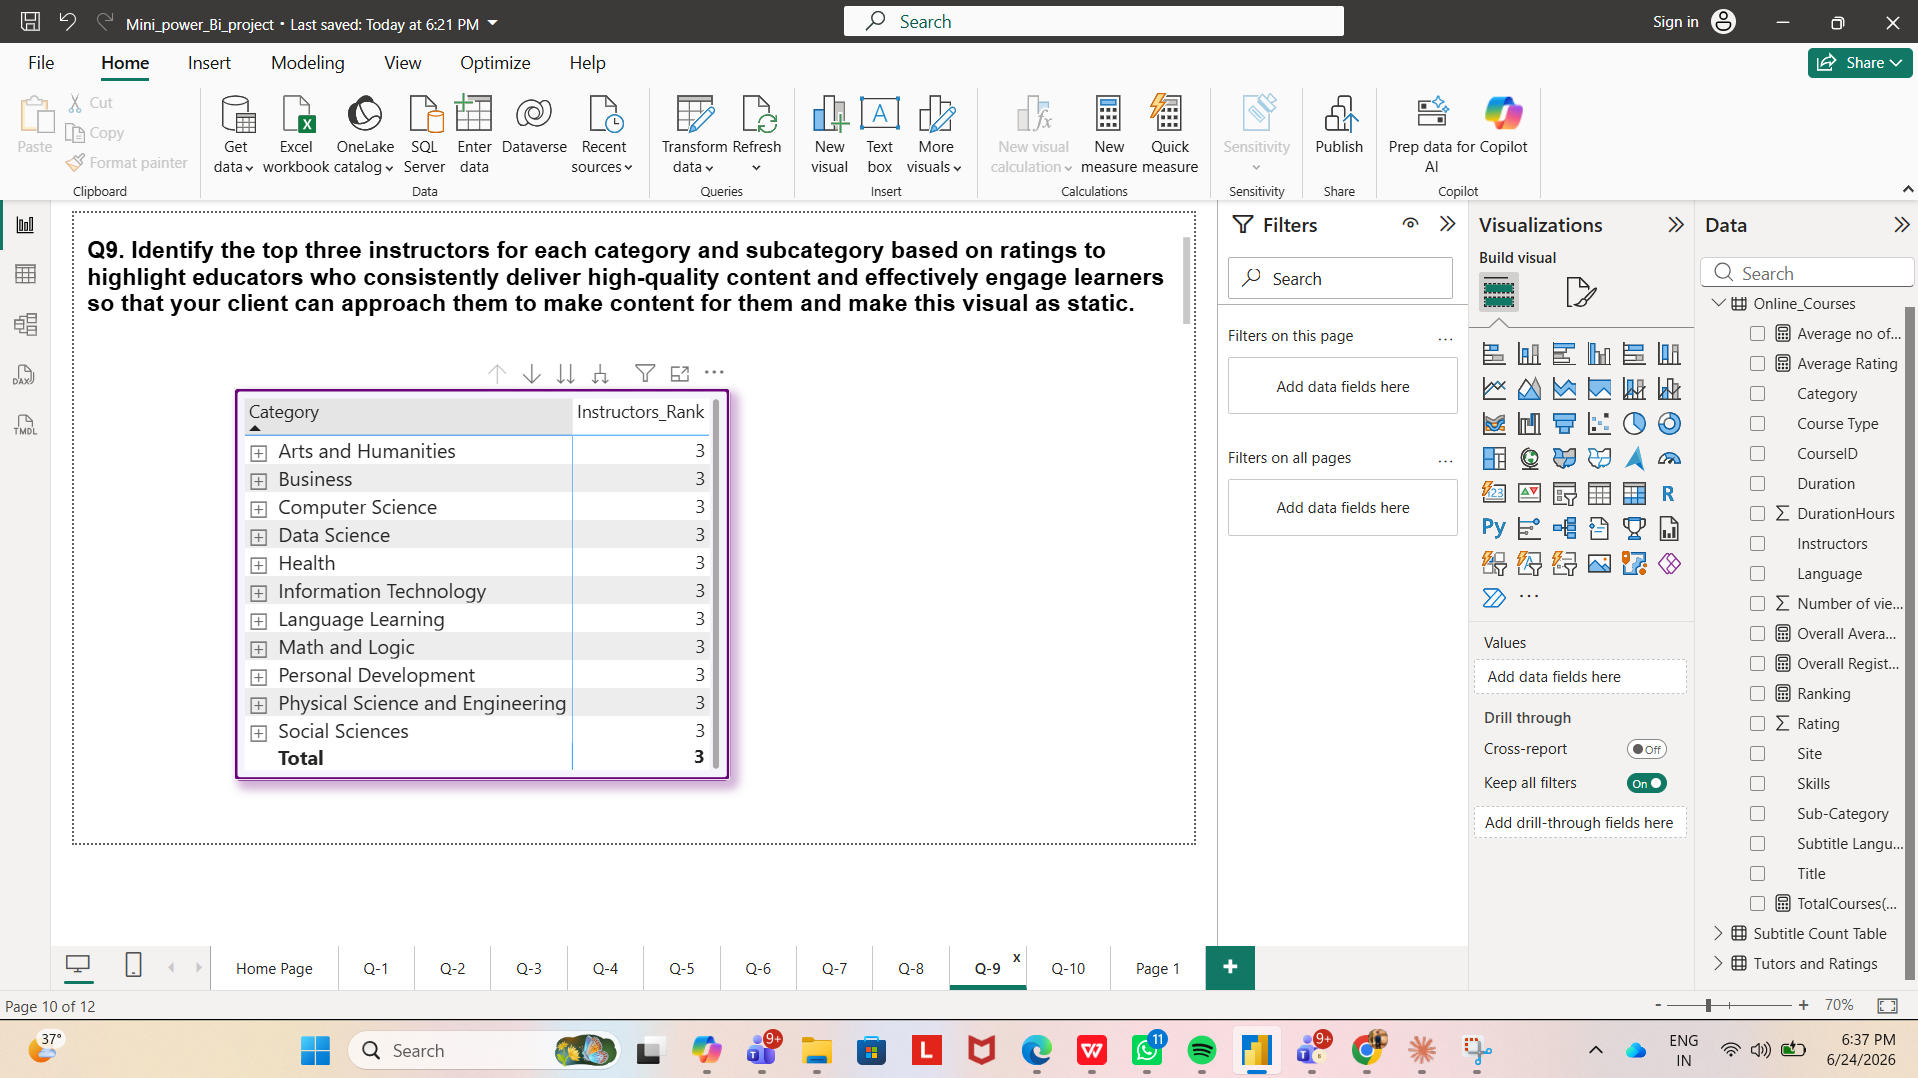

The dashboard page shown, as its layout file describes it:
{"tool":"powerbi","page":{"name":"Q-9","canvas":[1280,720],"ordinal":9},"visuals":[{"type":"textbox","box":[9.6,23.3,1270.7,113.9],"z":0},{"type":"pivotTable","fields":{"Rows":["Tutors and Ratings.Category","Tutors and Ratings.Sub-Category","Tutors and Ratings.Instructors"],"Values":["Tutors and Ratings.Instructors_Rank"]},"box":[182.9,200,567.1,448.6],"z":1000}]}

Visuals, with their boxes on the page's 1280x720 design canvas (x1, y1, x2, y2). These are canvas units, not pixel positions in the 1918x1078 screenshot, which may show the page scaled, cropped or inside an application window:
textbox: <region>10, 23, 1280, 137</region>
pivotTable - Tutors and Ratings.Category x Tutors and Ratings.Sub-Category: <region>183, 200, 750, 649</region>
